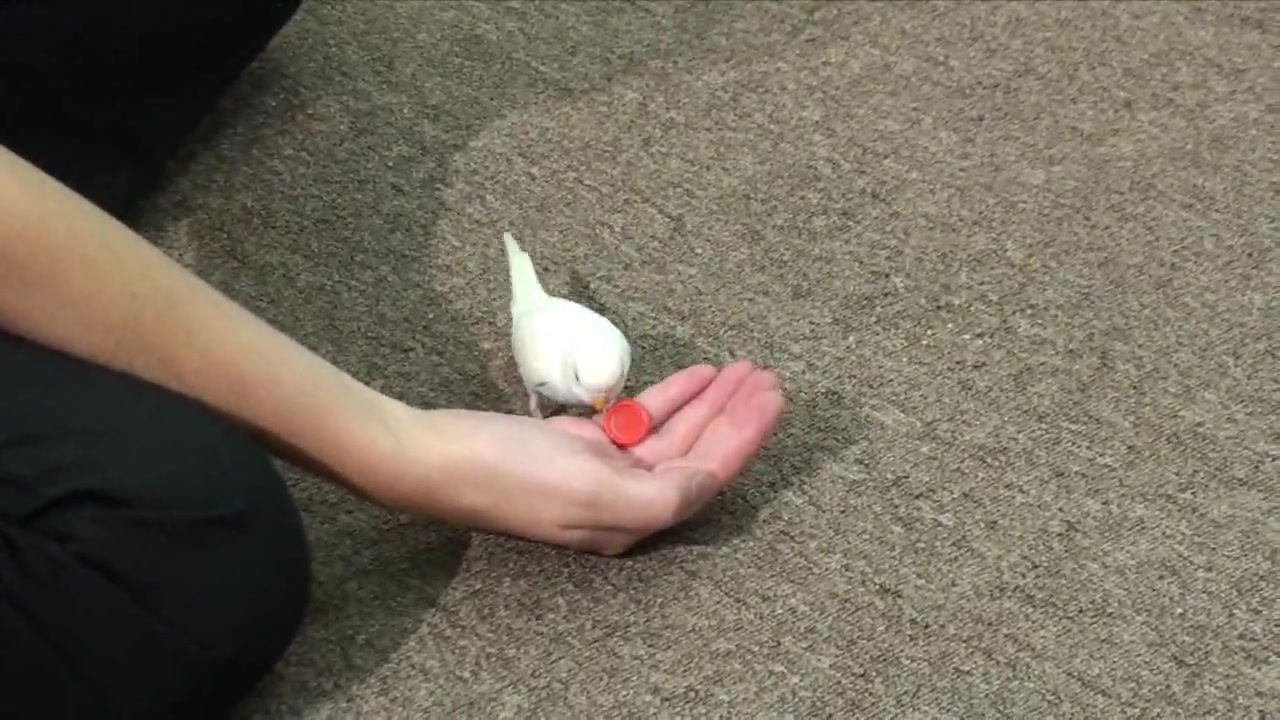bird: (501, 230, 637, 417)
